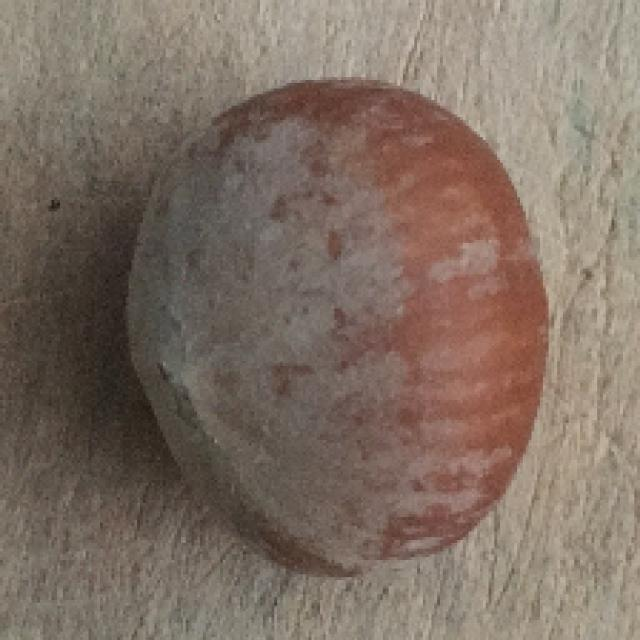QualityHazelnut: (127, 77, 549, 581)
